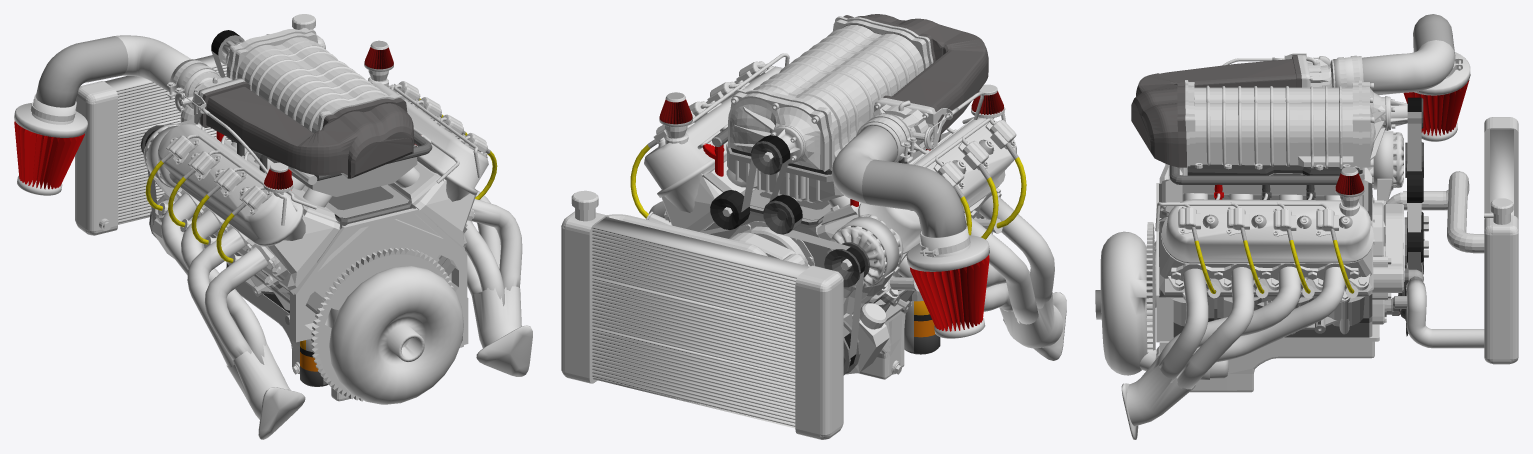
Rendered from Supercharged Ls Engine 1.fbx.
The picture shows the model from 3 angles, left to right: view 1: azimuth 30°, elevation 25°; view 2: azimuth 150°, elevation 25°; view 3: azimuth 270°, elevation 25°; orthographic projection. The views are drawn at different scales.
Parts seen in each view (by area): view 1: New_Game_Object (×37), New_Game_Object_Clone_ (×3), New_Game_Object_Clone__Clone_; view 2: New_Game_Object (×44), New_Game_Object_Clone_; view 3: New_Game_Object (×39), New_Game_Object_Clone_, New_Game_Object_Clone__Clone_ (×2).
Boxes of the visible parts, x1=… form: New_Game_Object (×37): x1=14, y1=30, x2=488, y2=439; New_Game_Object_Clone_ (×3): x1=161, y1=190, x2=532, y2=376; New_Game_Object_Clone__Clone_: x1=464, y1=220, x2=504, y2=306; New_Game_Object (×44): x1=561, y1=14, x2=1066, y2=439; New_Game_Object_Clone_: x1=898, y1=256, x2=1012, y2=311; New_Game_Object (×39): x1=1095, y1=14, x2=1518, y2=392; New_Game_Object_Clone_: x1=1121, y1=267, x2=1254, y2=439; New_Game_Object_Clone__Clone_ (×2): x1=1152, y1=266, x2=1345, y2=369.
Bounding box in the file's own units: 209 × 154 × 208.
